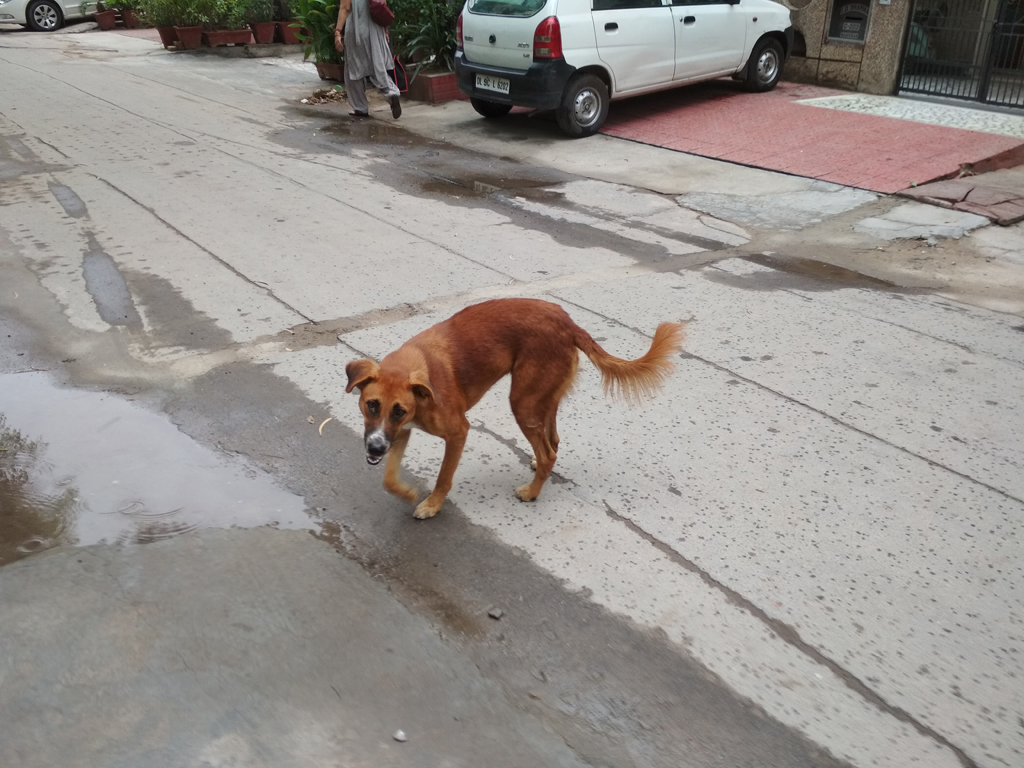dog: (345, 297, 683, 520)
